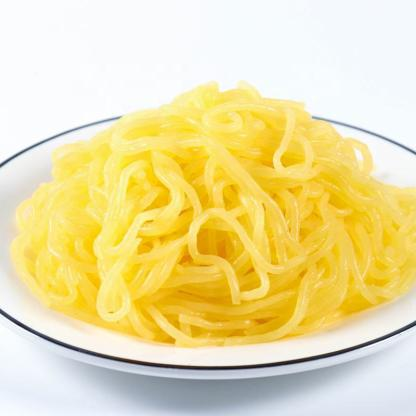Noodles: (10, 80, 415, 347)
